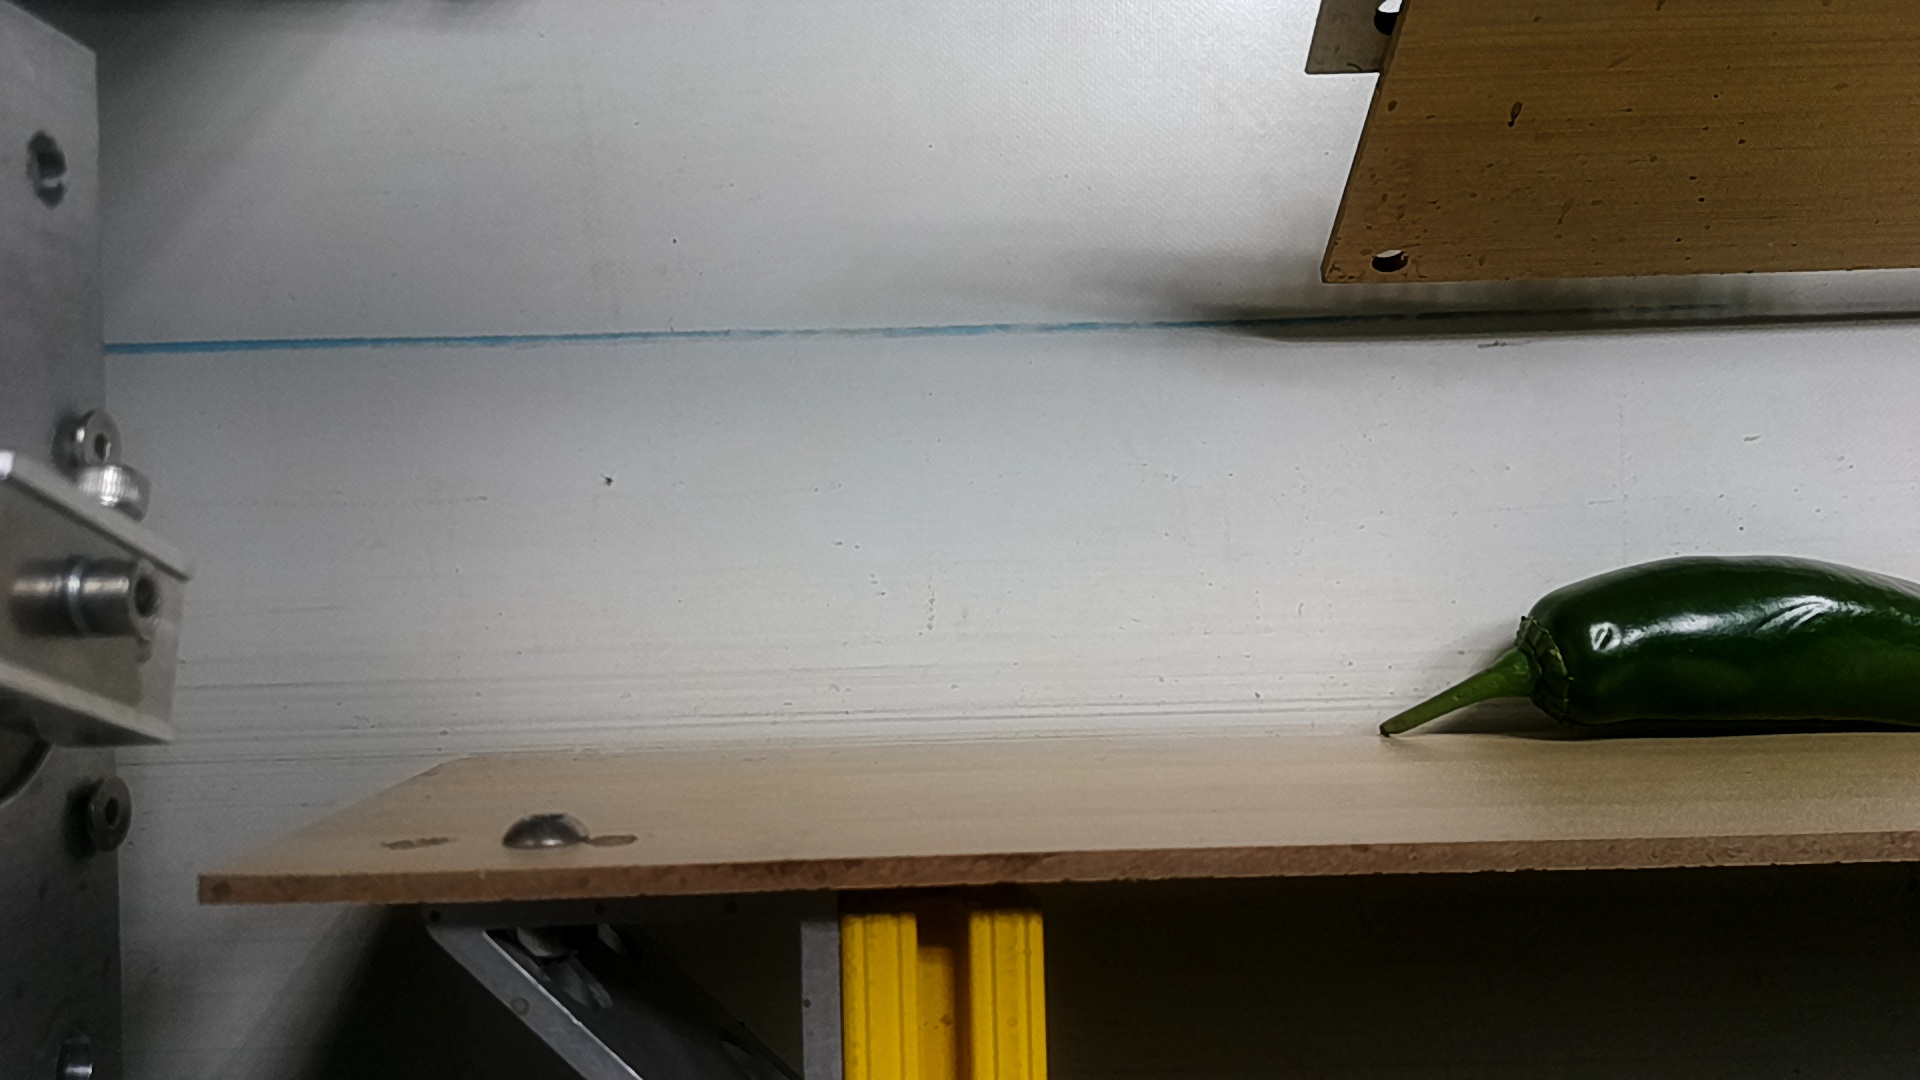Cut Point: (1502, 570, 1610, 740)
